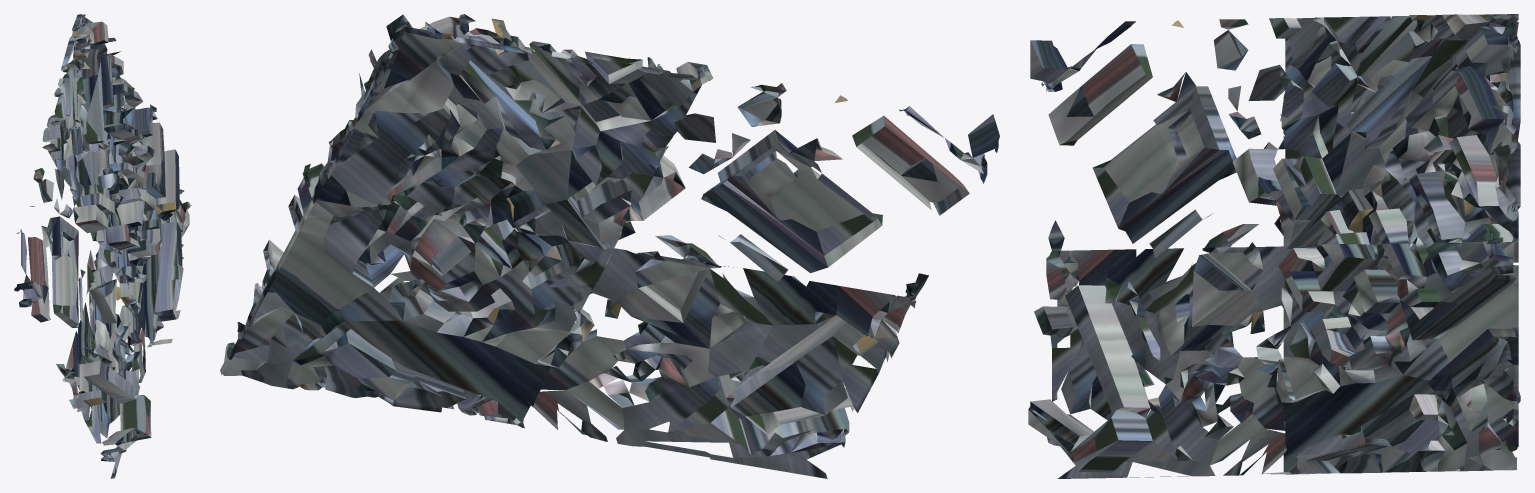
3 views of the same model, side by side, from view 1: azimuth 30°, elevation 25°; view 2: azimuth 150°, elevation 25°; view 3: azimuth 270°, elevation 25° (orthographic). The views are drawn at different scales.
Parts seen in each view (by area): view 1: node_3043627270436162_mesh0, node_3043627270436162_mesh1; view 2: node_3043627270436162_mesh0, node_3043627270436162_mesh1; view 3: node_3043627270436162_mesh0, node_3043627270436162_mesh1.
Boxes of the visible parts, <box> form: node_3043627270436162_mesh0: <box>14,14,191,478</box>; node_3043627270436162_mesh1: <box>24,22,187,460</box>; node_3043627270436162_mesh0: <box>220,14,999,478</box>; node_3043627270436162_mesh1: <box>227,16,971,443</box>; node_3043627270436162_mesh0: <box>1028,14,1520,478</box>; node_3043627270436162_mesh1: <box>1028,14,1516,475</box>.
Bounding box in the file's own units: 567 × 584 × 471.
2 materials, 2 textured.
